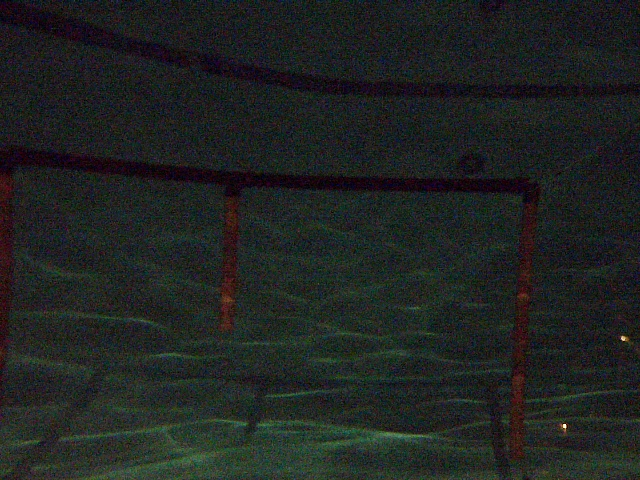Gate: (503, 194, 543, 469), (215, 189, 242, 337)
